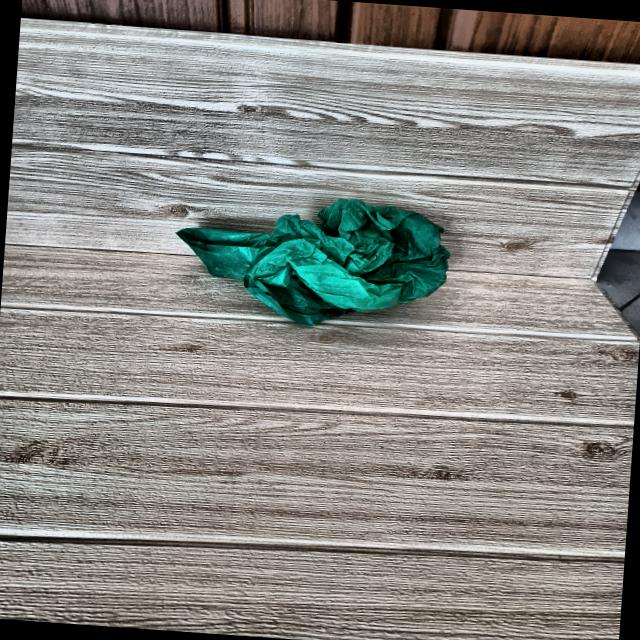plastic bag: (151, 170, 462, 343)
